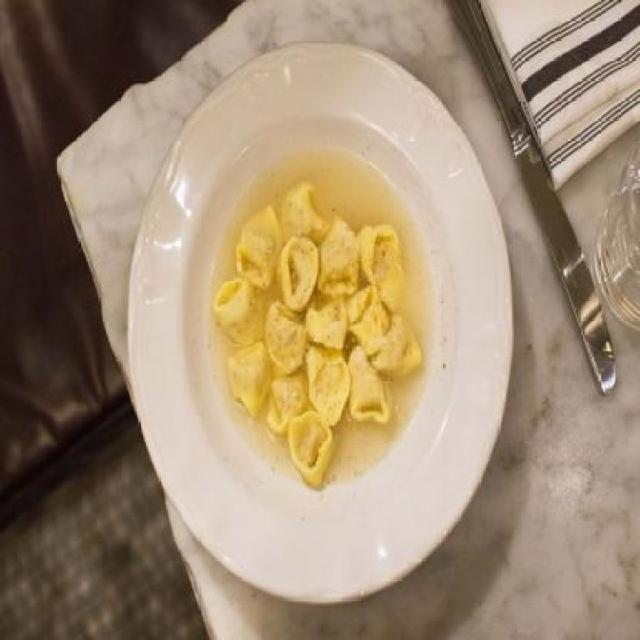Tortellini in broth: (216, 164, 438, 498)
